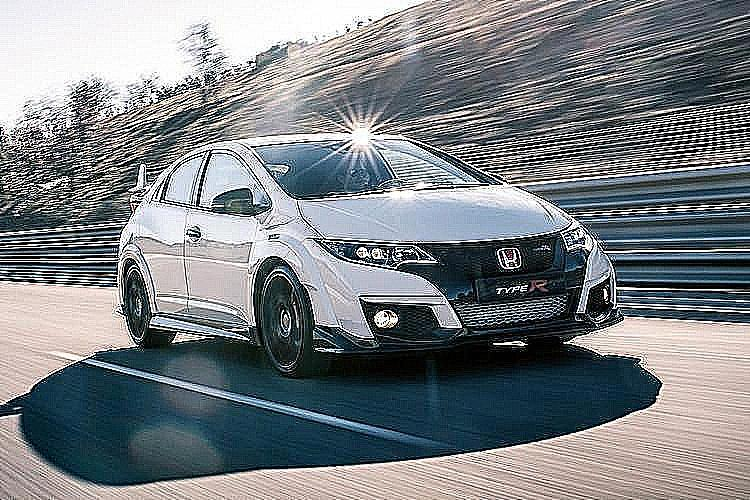Car hood: (291, 181, 582, 247)
Driver-s door - -F-R-: (185, 142, 266, 332)
Fender - -F-R-: (247, 196, 313, 345)
Fender - -R-R-: (122, 223, 155, 327)
Front bumper: (297, 261, 634, 358)
Headlight - -L-: (555, 216, 608, 258)
Headlight - -R-: (307, 231, 444, 272)
Passenger-s door - -R-R-: (130, 141, 194, 321)
Rear bumper: (116, 252, 131, 317)
Rear light - -R-: (113, 194, 152, 221)
Side bumper - -R-: (136, 307, 263, 354)
Side mirror - -R-: (209, 183, 263, 218)
